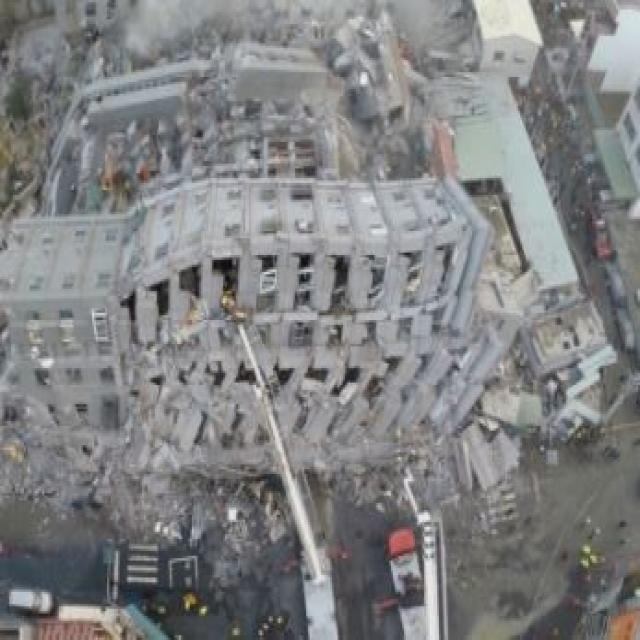collapsed_building: (64, 48, 444, 467)
